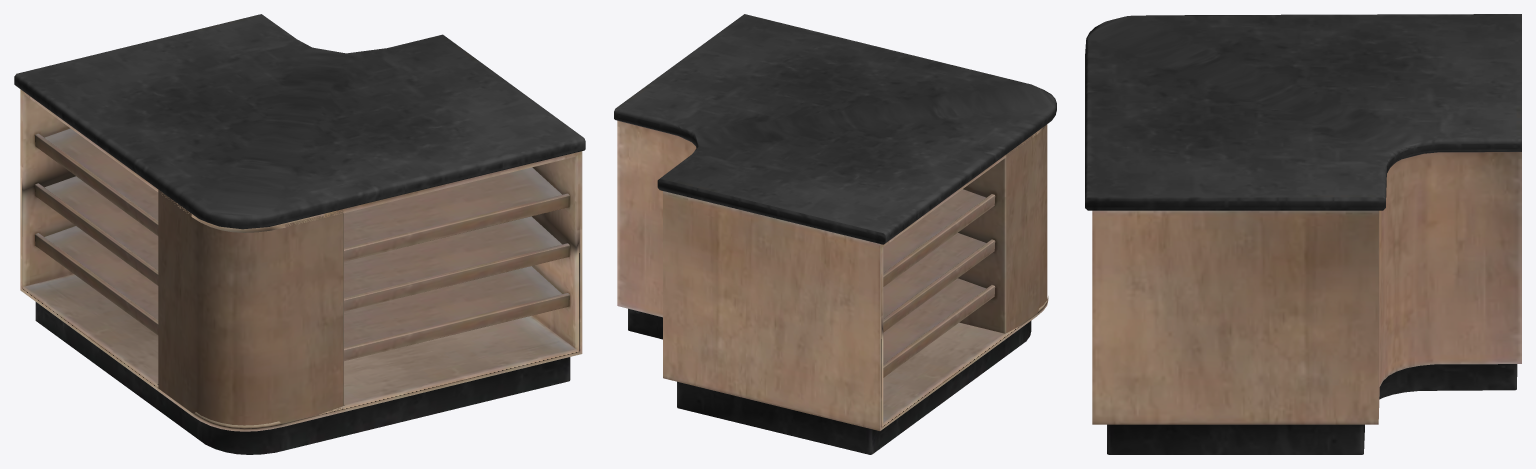
Rendered from supermarket_counter_a_corner.glb.
3 renders of one model, left to right at view 1: azimuth 30°, elevation 25°; view 2: azimuth 150°, elevation 25°; view 3: azimuth 270°, elevation 25°, orthographic. The views are drawn at different scales.
Visible parts, largest first — view 1: supermarket_counter_a_corner; view 2: supermarket_counter_a_corner; view 3: supermarket_counter_a_corner.
Boxes of the visible parts, x1,y1,x2,y2 form: supermarket_counter_a_corner: (14,14,585,454); supermarket_counter_a_corner: (614,14,1056,454); supermarket_counter_a_corner: (1085,14,1521,454).
Bounding box in the file's own units: 1.53 × 1 × 1.53.
Materials: 1 (1 with a texture image).
